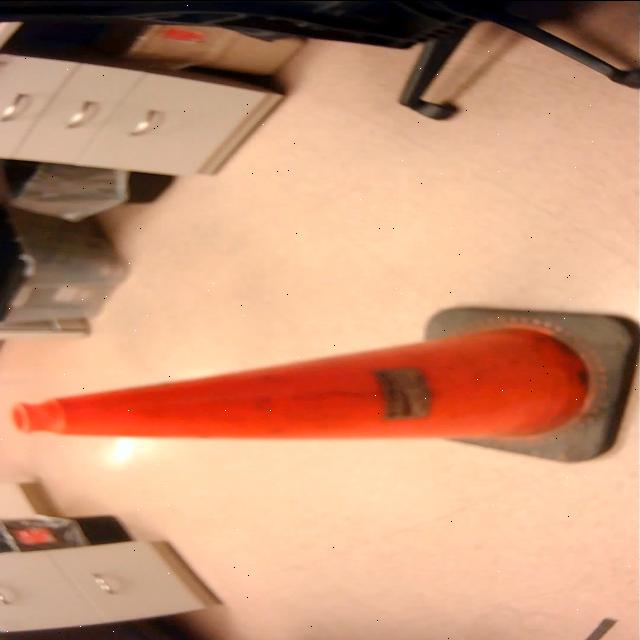traffic cone: (4, 304, 640, 469)
